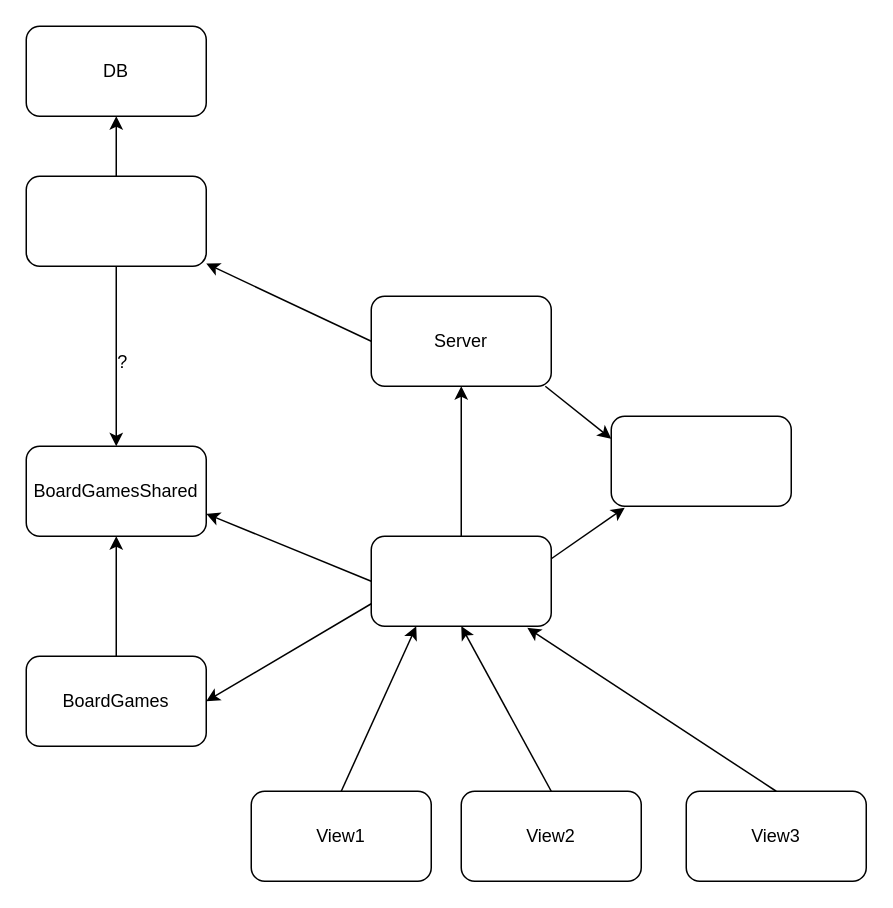
Image size: 893x908. Some labels were removed from this diagram. Each missing label, with the centre of its shape:
"Client" goes at point 460,580.
"gRPC" goes at point 700,460.
"OnlineLogic" goes at point 115,220.
